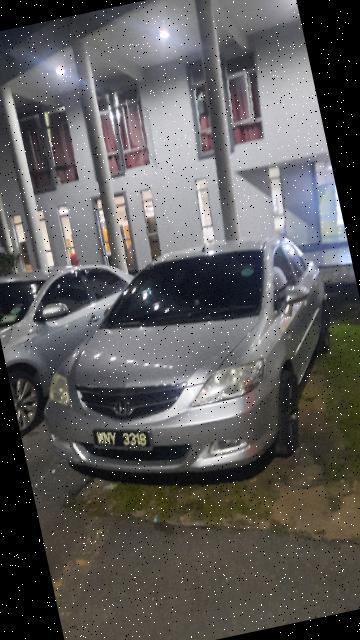License_Plate: (87, 414, 156, 467)
car: (12, 219, 360, 511), (1, 240, 173, 433)
